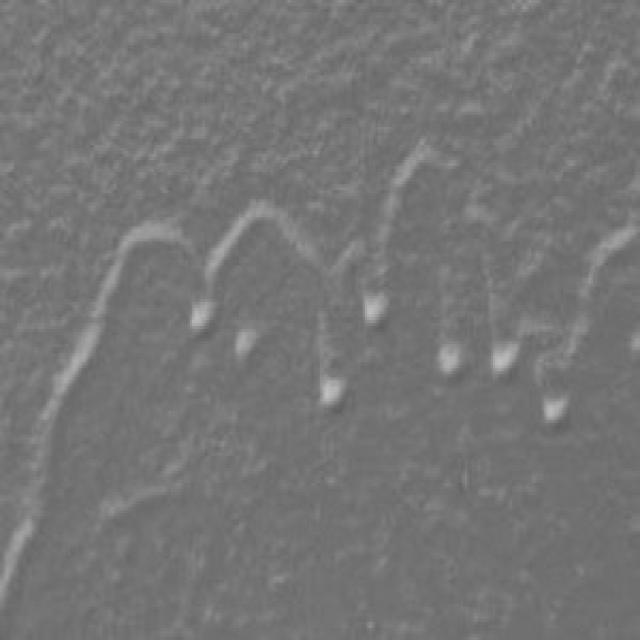paint drips: (395, 128, 632, 450), (78, 190, 270, 380), (291, 192, 418, 426), (1, 318, 83, 622)
